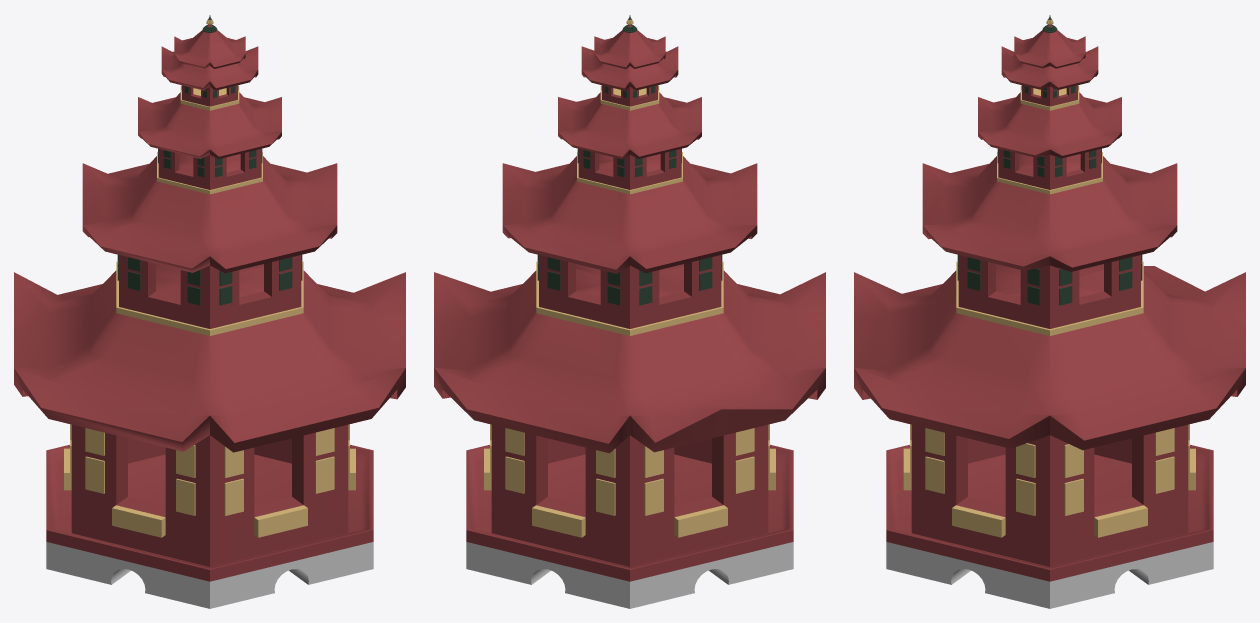
Rendered from ancientpavi2.fbx.
The picture shows the model from 3 angles, left to right: view 1: azimuth 30°, elevation 25°; view 2: azimuth 150°, elevation 25°; view 3: azimuth 270°, elevation 25°; orthographic projection.
Visible parts, largest first — view 1: polySurface85; view 2: polySurface85; view 3: polySurface85.
Part boxes in pixels (x1,y1,x2,y2): polySurface85: (14,15,405,608); polySurface85: (434,15,825,608); polySurface85: (854,15,1245,608).
Bounding box in the file's own units: 5.64 × 7.09 × 4.89.
